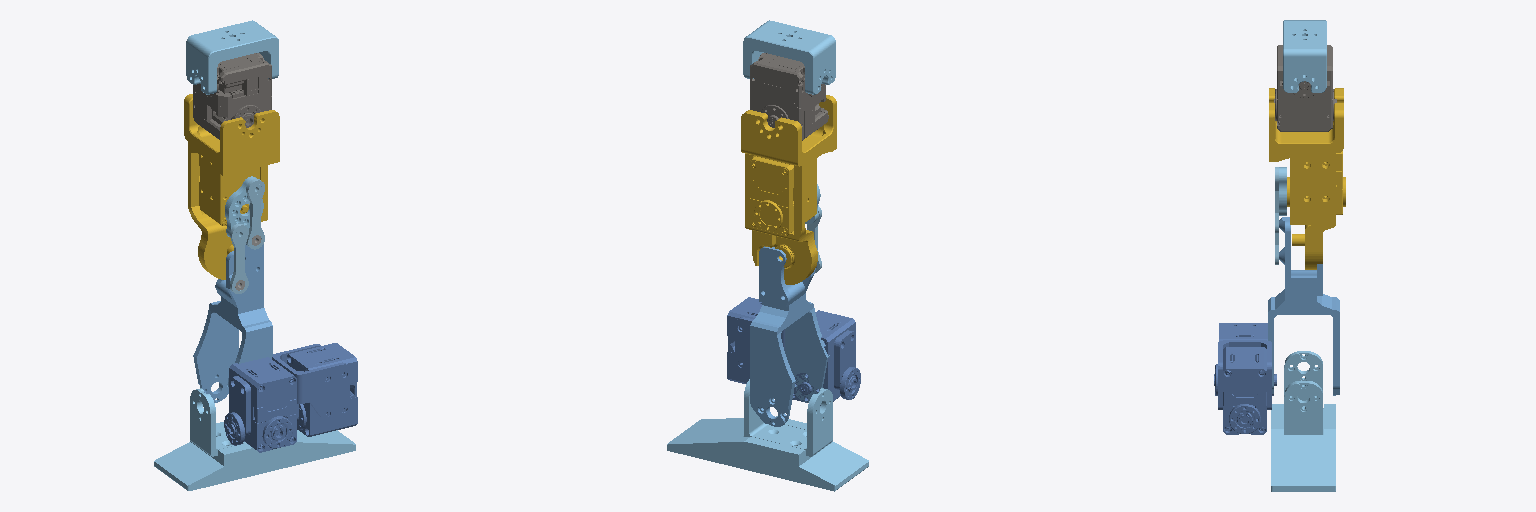
robot.urdf — left_leg_OP3:
<?xml version="1.0" ?><robot name="left_leg_OP3">  
  <link name="hip_yaw_link">    
    <visual>      
      <origin xyz="0 0 0" rpy="0 -0 0"/>      
      <geometry>        
        <mesh filename="package:///meshes/left_hip_yaw_link_visual.stl"/>        
      </geometry>      
      <material name="hip_yaw_link_material">        
        <color rgba="0.61568627450980395466 0.81176470588235294379 0.92941176470588238168 1.0"/>        
      </material>      
    </visual>    
    <collision>      
      <origin xyz="0 0 0" rpy="0 -0 0"/>      
      <geometry>        
        <mesh filename="package:///meshes/left_hip_yaw_link_collision.stl"/>        
      </geometry>      
    </collision>    
    <inertial>      
      <origin xyz="4.9380160210530065193e-19 -4.9299946852656094098e-19 -0.0098919667346054479529" rpy="0 0 0"/>      
      <mass value="0.017999999999999991701"/>      
      <inertia ixx="2.6483505271519531846e-06" ixy="0" ixz="0" iyy="7.7055357996008200689e-06" iyz="0" izz="7.7736682806805307549e-06"/>      
    </inertial>    
  </link>  

  <link name="hip_roll_link">    
    <visual>      
      <origin xyz="0 0 0" rpy="0 -0 0"/>      
      <geometry>        
        <mesh filename="package:///meshes/left_hip_roll_link_visual.stl"/>        
      </geometry>      
      <material name="hip_roll_link_material">        
        <color rgba="0.51698661238356058423 0.5034781595109349972 0.49050589017722023844 1.0"/>        
      </material>      
    </visual>    
    <collision>      
      <origin xyz="0 0 0" rpy="0 -0 0"/>      
      <geometry>        
        <mesh filename="package:///meshes/left_hip_roll_link_collision.stl"/>        
      </geometry>      
    </collision>    
    <inertial>      
      <origin xyz="-0.011999849582186208896 -0.00049598090793881205625 -0.018504111838599408835" rpy="0 0 0"/>      
      <mass value="0.11059999999836231388"/>      
      <inertia ixx="2.2818802599019004628e-05" ixy="-4.6520143286869583124e-08" ixz="-4.6888548260596732511e-08" iyy="3.0871632082339549546e-05" iyz="-5.7477343899715808414e-07" izz="3.0871666424470027622e-05"/>      
    </inertial>    
  </link>  

  <link name="left_hip_pitch_link_xm430">    
    <visual>      
      <origin xyz="0 0 0" rpy="0 -0 0"/>      
      <geometry>        
        <mesh filename="package:///meshes/left_hip_pitch_link_xm430_visual.stl"/>        
      </geometry>      
      <material name="left_hip_pitch_link_xm430_material">        
        <color rgba="0.87072221357329560032 0.72641010956094276274 0.24785169615220700723 1.0"/>        
      </material>      
    </visual>    
    <collision>      
      <origin xyz="0 0 0" rpy="0 -0 0"/>      
      <geometry>        
        <mesh filename="package:///meshes/left_hip_pitch_link_xm430_collision.stl"/>        
      </geometry>      
    </collision>    
    <inertial>      
      <origin xyz="-0.00075729214155254573945 -0.050714785675264800746 -0.012656155119959967836" rpy="0 0 0"/>      
      <mass value="0.11480090135030571186"/>      
      <inertia ixx="6.6072773889430918681e-05" ixy="-4.6080149277680254324e-07" ixz="-1.8170739115383766333e-07" iyy="2.3633638685370604669e-05" iyz="1.412525392535058454e-06" izz="6.222172880433396642e-05"/>      
    </inertial>    
  </link>  

  <link name="left_calf_link">    
    <visual>      
      <origin xyz="0 0 0" rpy="0 -0 0"/>      
      <geometry>        
        <mesh filename="package:///meshes/left_calf_link_visual.stl"/>        
      </geometry>      
      <material name="left_calf_link_material">        
        <color rgba="0.52270714737507917302 0.70740037950664147459 0.87533206831119547697 1.0"/>        
      </material>      
    </visual>    
    <collision>      
      <origin xyz="0 0 0" rpy="0 -0 0"/>      
      <geometry>        
        <mesh filename="package:///meshes/left_calf_link_collision.stl"/>        
      </geometry>      
    </collision>    
    <inertial>      
      <origin xyz="-0.0044698992063319882215 -0.040537655000345611256 -0.0094043191617600094268" rpy="0 0 0"/>      
      <mass value="0.030999999999999999778"/>      
      <inertia ixx="3.2349006752264489986e-05" ixy="1.4910956274418290318e-06" ixz="1.9651815973589667346e-07" iyy="7.7183393965099210795e-06" iyz="-6.2686077155114780233e-07" izz="2.7323441483284238653e-05"/>      
    </inertial>    
  </link>  

  <link name="bearing_683">    
    <visual>      
      <origin xyz="0 0 0" rpy="0 -0 0"/>      
      <geometry>        
        <mesh filename="package:///meshes/left_bearing_683_visual.stl"/>        
      </geometry>      
      <material name="bearing_683_material">        
        <color rgba="0.64705882352941179736 0.64705882352941179736 0.64705882352941179736 1.0"/>        
      </material>      
    </visual>    
    <collision>      
      <origin xyz="0 0 0" rpy="0 -0 0"/>      
      <geometry>        
        <mesh filename="package:///meshes/left_bearing_683_collision.stl"/>        
      </geometry>      
    </collision>    
    <inertial>      
      <origin xyz="1.0732094295234589938e-19 -1.1092294808200096612e-18 -0.0015500000000000036318" rpy="0 0 0"/>      
      <mass value="0.00048694686130641804279"/>      
      <inertia ixx="2.1551456503319891521e-09" ixy="-1.641432842897370597e-27" ixz="1.4124781681235786249e-37" iyy="2.1551456503319874977e-09" iyz="1.5075576954774402725e-38" izz="3.5303647444715305817e-09"/>      
    </inertial>    
  </link>  

  <joint name="left_knee_front_rev_2" type="revolute">    
    <origin xyz="-0.005740251485476489772 0.01385819298766921559 -0.026199999999999820655" rpy="-8.9608725300154706869e-15 4.6129922847757146423e-15 1.5765933876572442163"/>    
    <parent link="left_calf_link"/>    
    <child link="bearing_683"/>    
    <axis xyz="0 0 1"/>    
    <limit effort="1" velocity="20" lower="-6.283185307179586232" upper="6.283185307179586232"/>    
    <joint_properties friction="0.0"/>    
  </joint>  

  <link name="bearing_683_2">    
    <visual>      
      <origin xyz="0 0 0" rpy="0 -0 0"/>      
      <geometry>        
        <mesh filename="package:///meshes/left_bearing_683_2_visual.stl"/>        
      </geometry>      
      <material name="bearing_683_2_material">        
        <color rgba="0.64705882352941179736 0.64705882352941179736 0.64705882352941179736 1.0"/>        
      </material>      
    </visual>    
    <collision>      
      <origin xyz="0 0 0" rpy="0 -0 0"/>      
      <geometry>        
        <mesh filename="package:///meshes/left_bearing_683_2_collision.stl"/>        
      </geometry>      
    </collision>    
    <inertial>      
      <origin xyz="-2.7648254672676440704e-17 -2.4186774283159990285e-19 -0.0015499999999999966929" rpy="0 0 0"/>      
      <mass value="0.00048694686130641804279"/>      
      <inertia ixx="2.1551456503319891521e-09" ixy="-1.3589423179364439532e-27" ixz="-1.8325046965530175966e-37" iyy="2.1551456503319874977e-09" iyz="-6.8551174496216249854e-38" izz="3.5303647444715305817e-09"/>      
    </inertial>    
  </link>  

  <joint name="left_knee_back_rev_2" type="revolute">    
    <origin xyz="0.0057402514854762824725 -0.013858192987669576413 -0.026200000000000028821" rpy="-6.5544379830050492951e-15 -5.7215737298236230488e-15 1.5736949077299540178"/>    
    <parent link="left_calf_link"/>    
    <child link="bearing_683_2"/>    
    <axis xyz="0 0 1"/>    
    <limit effort="1" velocity="20" lower="-6.283185307179586232" upper="6.283185307179586232"/>    
    <joint_properties friction="0.0"/>    
  </joint>  

  <link name="ank_pitch_link">    
    <visual>      
      <origin xyz="0 0 0" rpy="0 -0 0"/>      
      <geometry>        
        <mesh filename="package:///meshes/left_ank_pitch_link_visual.stl"/>        
      </geometry>      
      <material name="ank_pitch_link_material">        
        <color rgba="0.42838831031765539636 0.55128652208657225042 0.74128917770314906033 1.0"/>        
      </material>      
    </visual>    
    <collision>      
      <origin xyz="0 0 0" rpy="0 -0 0"/>      
      <geometry>        
        <mesh filename="package:///meshes/left_ank_pitch_link_collision.stl"/>        
      </geometry>      
    </collision>    
    <inertial>      
      <origin xyz="-0.012383885521091757276 -0.019663604311318489543 -0.018862066178913977632" rpy="0 0 0"/>      
      <mass value="0.15976376693924945749"/>      
      <inertia ixx="9.8184006245893959593e-05" ixy="-1.0738445982478896869e-06" ixz="-4.3555854013797812183e-08" iyy="4.2237181854198917923e-05" iyz="-4.1061630166272830127e-07" izz="0.00011168324060677566794"/>      
    </inertial>    
  </link>  

  <link name="ank_roll_link">    
    <visual>      
      <origin xyz="0 0 0" rpy="0 -0 0"/>      
      <geometry>        
        <mesh filename="package:///meshes/left_ank_roll_link_visual.stl"/>        
      </geometry>      
      <material name="ank_roll_link_material">        
        <color rgba="0.61568627450980395466 0.81176470588235294379 0.92941176470588238168 1.0"/>        
      </material>      
    </visual>    
    <collision>      
      <origin xyz="0 0 0" rpy="0 -0 0"/>      
      <geometry>        
        <mesh filename="package:///meshes/left_ank_roll_link_collision.stl"/>        
      </geometry>      
    </collision>    
    <inertial>      
      <origin xyz="-0.029130310088550246533 1.6670148937644574653e-12 -0.032689255231487759912" rpy="0 0 0"/>      
      <mass value="0.042600000000000005917"/>      
      <inertia ixx="3.4040474055474582429e-05" ixy="5.6347174116422197233e-16" ixz="-2.9155340357589980414e-06" iyy="3.5985885714940852133e-05" iyz="4.0546531200654210183e-12" izz="1.1635443964441517025e-05"/>      
    </inertial>    
  </link>  

  <joint name="left_ank_roll" type="revolute">    
    <origin xyz="-4.9960036108132044319e-16 -0.022750000000003208628 -0.019000000000006171674" rpy="-1.5707963267948434893 -1.0354577980633209865e-13 -3.141592653589788231"/>    
    <parent link="ank_pitch_link"/>    
    <child link="ank_roll_link"/>    
    <axis xyz="0 0 1"/>    
    <limit effort="1" velocity="20" lower="-1.570796326794896558" upper="1.570796326794896558"/>    
    <joint_properties friction="0.0"/>    
  </joint>  

  <joint name="left_ank_pitch" type="revolute">    
    <origin xyz="0.00049999999999989310807 -0.099999999999999977796 -0.029400000000000373751" rpy="-3.141592653589793116 5.1278425949876957843e-15 -1.5707963267948956698"/>    
    <parent link="left_calf_link"/>    
    <child link="ank_pitch_link"/>    
    <axis xyz="0 0 1"/>    
    <limit effort="1" velocity="20" lower="-0.785398163397448279" upper="1.8325957145940461324"/>    
    <joint_properties friction="0.0"/>    
  </joint>  

  <joint name="left_knee_pitch" type="revolute">    
    <origin xyz="1.549471946950906618e-16 -0.095999999999999932609 -0.009200000000000154235" rpy="-4.3715031594638534075e-15 -1.6535574677587582148e-16 3.720971275579667282e-17"/>    
    <parent link="left_hip_pitch_link_xm430"/>    
    <child link="left_calf_link"/>    
    <axis xyz="0 0 1"/>    
    <limit effort="1" velocity="20" lower="0" upper="1.9198621771937625091"/>    
    <joint_properties friction="0.0"/>    
  </joint>  

  <link name="xm430_plate">    
    <visual>      
      <origin xyz="0 0 0" rpy="0 -0 0"/>      
      <geometry>        
        <mesh filename="package:///meshes/left_xm430_plate_visual.stl"/>        
      </geometry>      
      <material name="xm430_plate_material">        
        <color rgba="0.61568627450980395466 0.81176470588235294379 0.92941176470588227065 1.0"/>        
      </material>      
    </visual>    
    <collision>      
      <origin xyz="0 0 0" rpy="0 -0 0"/>      
      <geometry>        
        <mesh filename="package:///meshes/left_xm430_plate_collision.stl"/>        
      </geometry>      
    </collision>    
    <inertial>      
      <origin xyz="3.442143248299717822e-18 2.2506420678598994003e-18 -0.0024039046431217920424" rpy="0 0 0"/>      
      <mass value="0.0026999999999999997093"/>      
      <inertia ixx="1.293311664536341083e-07" ixy="-6.8936588702566427179e-08" ixz="2.0225744000250147945e-35" iyy="2.6720434385876693618e-07" iyz="6.3731332970867780622e-36" izz="3.8533537562751439267e-07"/>      
    </inertial>    
  </link>  

  <link name="knee_rod">    
    <visual>      
      <origin xyz="0 0 0" rpy="0 -0 0"/>      
      <geometry>        
        <mesh filename="package:///meshes/left_knee_rod_visual.stl"/>        
      </geometry>      
      <material name="knee_rod_material">        
        <color rgba="0.62051618944235198416 0.78640765248647581664 0.88594253031295022716 1.0"/>        
      </material>      
    </visual>    
    <collision>      
      <origin xyz="0 0 0" rpy="0 -0 0"/>      
      <geometry>        
        <mesh filename="package:///meshes/left_knee_rod_collision.stl"/>        
      </geometry>      
    </collision>    
    <inertial>      
      <origin xyz="0.01459454669113442217 -4.2302323076716512068e-05 -0.0015996227373186188998" rpy="0 0 0"/>      
      <mass value="0.0031629468613064179276"/>      
      <inertia ixx="2.589615283858449296e-08" ixy="3.5533843515669891641e-10" ixz="4.1682972813677818655e-10" iyy="6.0153250027080726266e-07" iyz="-1.2081818164427927846e-12" izz="6.2266858883153040768e-07"/>      
    </inertial>    
  </link>  

  <joint name="left_knee_front_rev_1" type="revolute">    
    <origin xyz="0.013858192987669298857 0.0057402514854763683413 -0.004999999999999966277" rpy="6.8152281266059555871e-15 1.7362503496778251608e-15 -3.1357955927274376862"/>    
    <parent link="xm430_plate"/>    
    <child link="knee_rod"/>    
    <axis xyz="0 0 1"/>    
    <limit effort="1" velocity="20" lower="-6.283185307179586232" upper="6.283185307179586232"/>    
    <joint_properties friction="0.0"/>    
  </joint>  

  <link name="knee_rod_2">    
    <visual>      
      <origin xyz="0 0 0" rpy="0 -0 0"/>      
      <geometry>        
        <mesh filename="package:///meshes/left_knee_rod_2_visual.stl"/>        
      </geometry>      
      <material name="knee_rod_2_material">        
        <color rgba="0.62051618944235198416 0.78640765248647581664 0.88594253031295022716 1.0"/>        
      </material>      
    </visual>    
    <collision>      
      <origin xyz="0 0 0" rpy="0 -0 0"/>      
      <geometry>        
        <mesh filename="package:///meshes/left_knee_rod_2_collision.stl"/>        
      </geometry>      
    </collision>    
    <inertial>      
      <origin xyz="0.014594546693013762603 4.2301026627538472068e-05 -0.0015996227373187487872" rpy="0 0 0"/>      
      <mass value="0.0031629468613064179276"/>      
      <inertia ixx="2.5896152775456331776e-08" ixy="-3.5532754507527878699e-10" ixz="4.1682972819100768222e-10" iyy="6.0153250030241281478e-07" iyz="1.2081447876865759557e-12" izz="6.22668588799920091e-07"/>      
    </inertial>    
  </link>  

  <joint name="left_knee_back_rev_1" type="revolute">    
    <origin xyz="-0.013858192987669284979 -0.0057402514854763379837 -0.0050000000000000321965" rpy="-1.7902130110758088672e-15 1.2957208404619350222e-14 -3.1386940726547267744"/>    
    <parent link="xm430_plate"/>    
    <child link="knee_rod_2"/>    
    <axis xyz="0 0 1"/>    
    <limit effort="1" velocity="20" lower="-6.283185307179586232" upper="6.283185307179586232"/>    
    <joint_properties friction="0.0"/>    
  </joint>  

  <joint name="left_knee_act" type="revolute">    
    <origin xyz="-0.00014999999999966212236 -0.061500000000000276668 -0.030400000000000156064" rpy="-1.2184487414508649095e-14 1.1572329706963895349e-14 1.5707963267948876762"/>    
    <parent link="left_hip_pitch_link_xm430"/>    
    <child link="xm430_plate"/>    
    <axis xyz="0 0 1"/>    
    <limit effort="1" velocity="20" lower="0" upper="1.9198621771937625091"/>    
    <joint_properties friction="0.0"/>    
  </joint>  

  <joint name="left_hip_pitch" type="revolute">    
    <origin xyz="-0.02400000071615559713 -0.019000000152441166856 -0.019000000152458167146" rpy="1.5707963267953672926 1.5707963267945022068 0"/>    
    <parent link="hip_roll_link"/>    
    <child link="left_hip_pitch_link_xm430"/>    
    <axis xyz="0 0 1"/>    
    <limit effort="1" velocity="20" lower="-1.570796326794896558" upper="1.570796326794896558"/>    
    <joint_properties friction="0.0"/>    
  </joint>  

  <joint name="left_hip_roll" type="revolute">    
    <origin xyz="0.019000000000000002998 -3.3408590380431292134e-18 -0.025999999999999998807" rpy="3.141592653589793116 -1.5707963267948943376 0"/>    
    <parent link="hip_yaw_link"/>    
    <child link="hip_roll_link"/>    
    <axis xyz="0 0 1"/>    
    <limit effort="1" velocity="20" lower="-0.785398163397448279" upper="0.785398163397448279"/>    
    <joint_properties friction="0.0"/>    
  </joint>  


</robot>

--- What the picture shows (computed from the rendered views, not written in the file) ---
Views: 3 orthographic renders of the robot side by side, from view 1: azimuth 30°, elevation 25°; view 2: azimuth 150°, elevation 25°; view 3: azimuth 270°, elevation 25°.
Robot: left_leg_OP3 — 11 links, 10 joints (10 revolute); root link hip_yaw_link; default pose: every joint at zero.
Links seen in each view (by area): view 1: ank_pitch_link, left_hip_pitch_link_xm430, ank_roll_link, left_calf_link, hip_roll_link, hip_yaw_link, knee_rod_2, knee_rod, xm430_plate; view 2: left_hip_pitch_link_xm430, ank_roll_link, left_calf_link, ank_pitch_link, hip_roll_link, hip_yaw_link; view 3: ank_roll_link, left_hip_pitch_link_xm430, ank_pitch_link, left_calf_link, hip_yaw_link, hip_roll_link.
Link boxes in pixels (x1,y1,x2,y2): ank_pitch_link: (224,343,357,452); left_hip_pitch_link_xm430: (184,94,279,279); ank_roll_link: (154,388,355,490); left_calf_link: (193,232,272,402); hip_roll_link: (193,53,271,139); hip_yaw_link: (186,20,278,94); knee_rod_2: (230,224,248,293); knee_rod: (246,179,264,249); xm430_plate: (225,176,263,236); left_hip_pitch_link_xm430: (741,95,836,284); ank_roll_link: (667,379,868,491); left_calf_link: (750,246,829,426); ank_pitch_link: (727,297,860,405); hip_roll_link: (750,53,828,140); hip_yaw_link: (743,20,835,94); ank_roll_link: (1271,351,1335,491); left_hip_pitch_link_xm430: (1269,88,1345,269); ank_pitch_link: (1214,323,1276,434); left_calf_link: (1268,217,1339,395); hip_yaw_link: (1283,20,1326,92); hip_roll_link: (1274,45,1336,131).
Size in the robot's own frame: 0.12 by 0.0852 by 0.29 metres.
11 mesh visuals loaded from 11 distinct referenced files (11 binary STL).